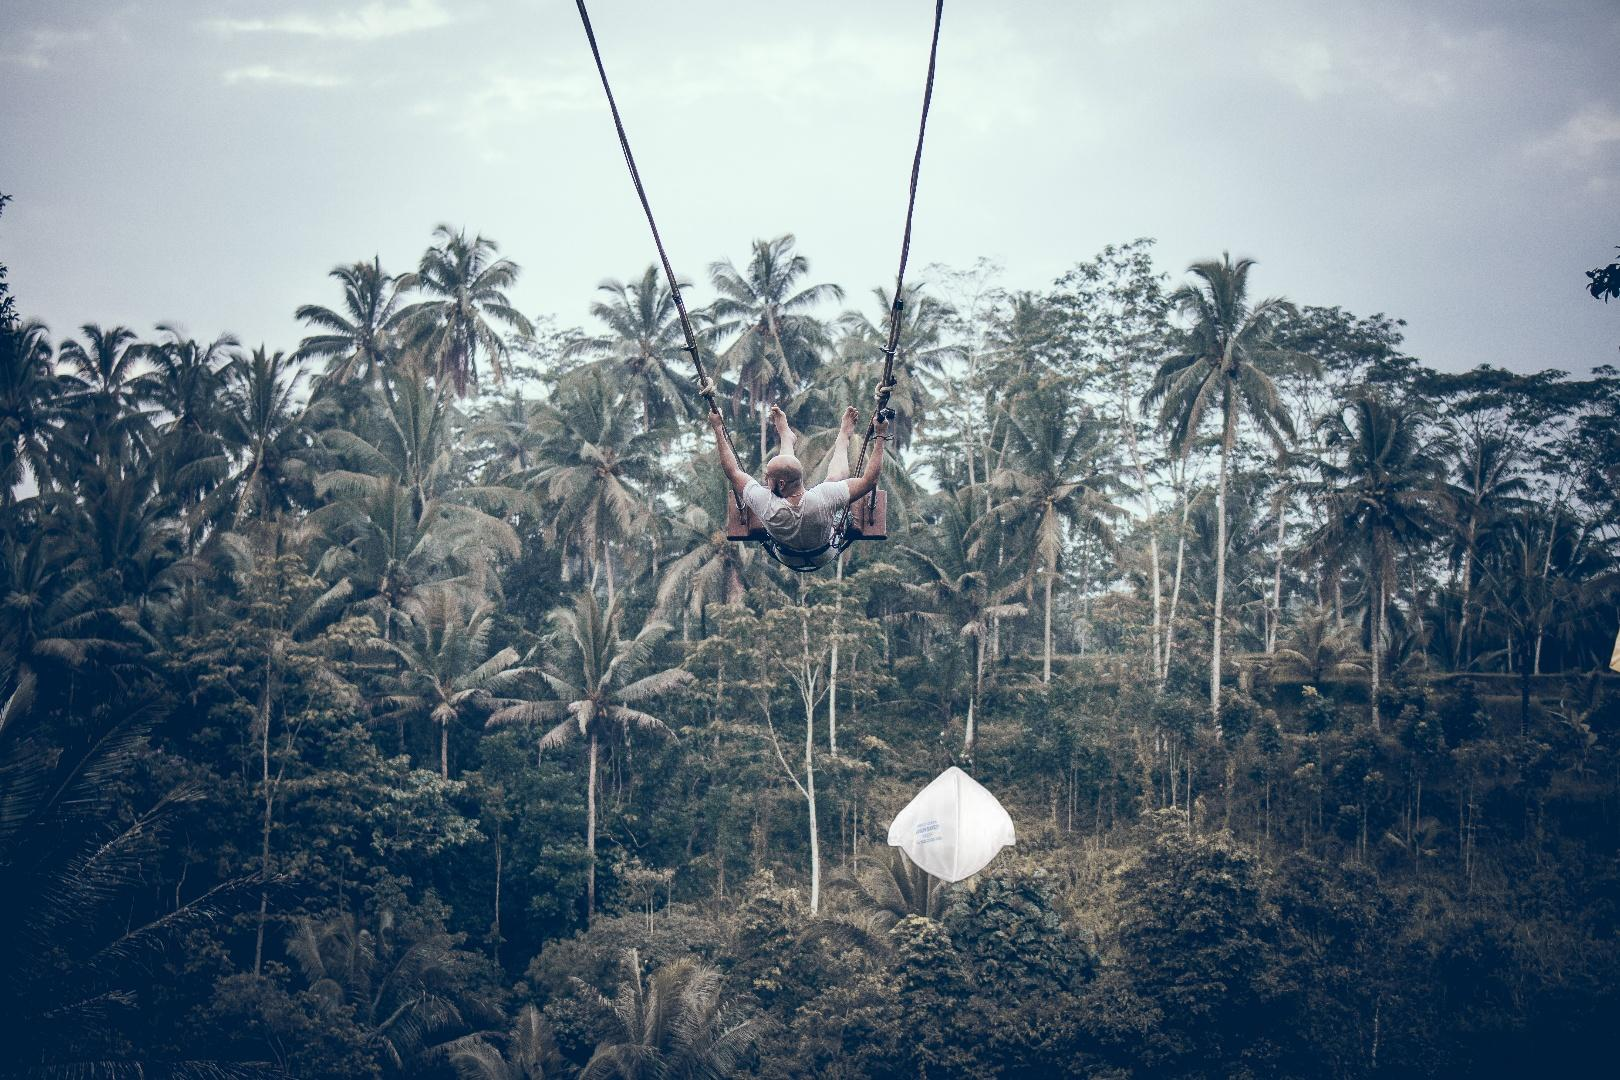paper-bag: (1606, 518, 1620, 702)
trash: (884, 763, 1019, 886)
